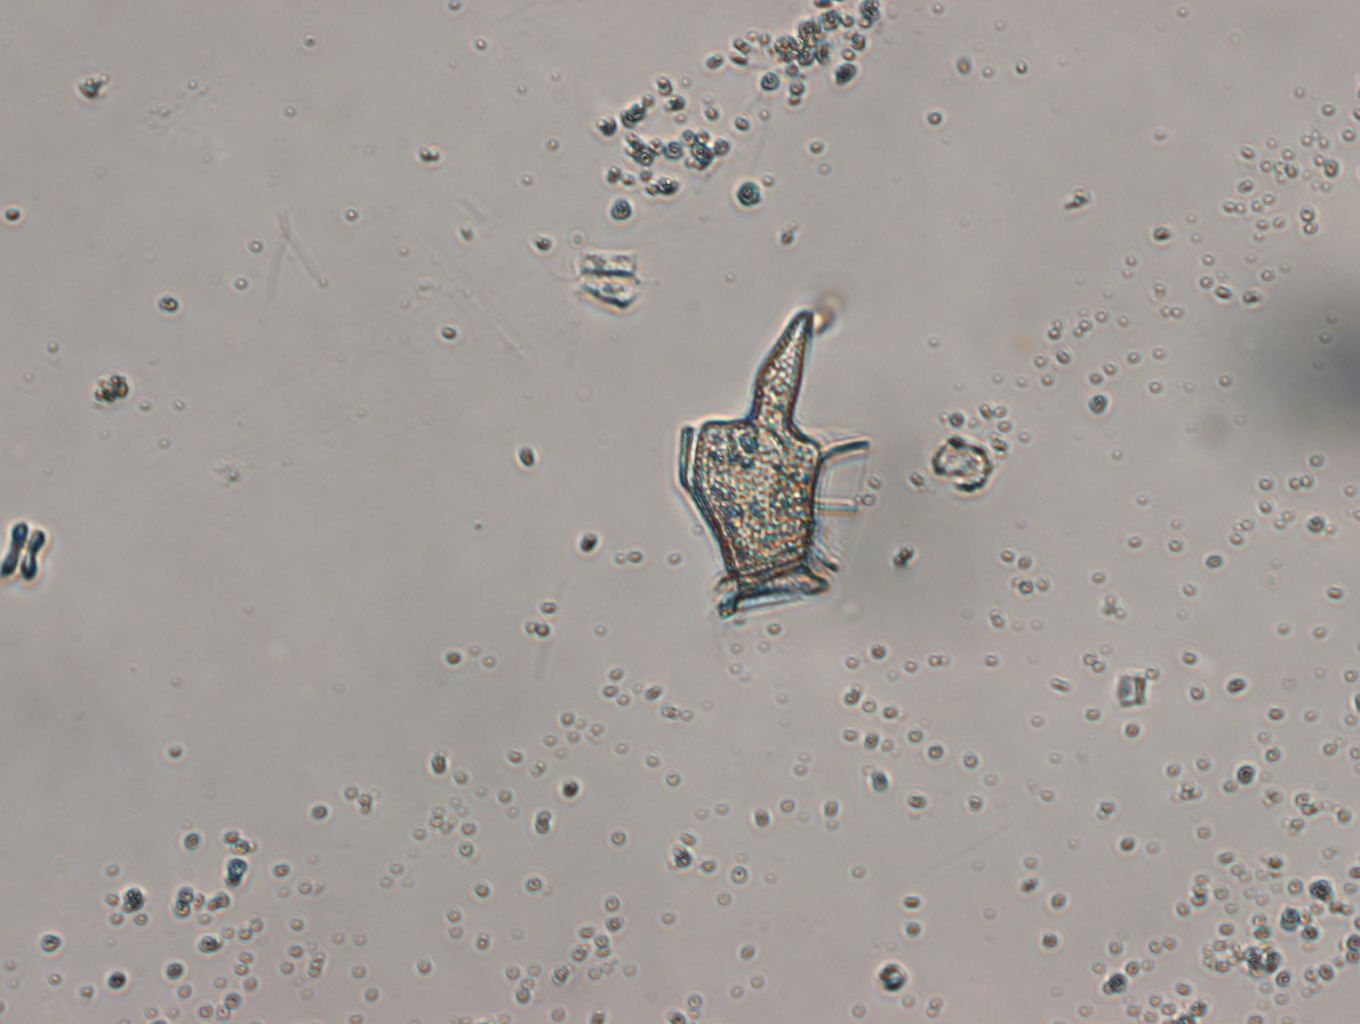dinophysis caudata: (674, 307, 874, 632)
